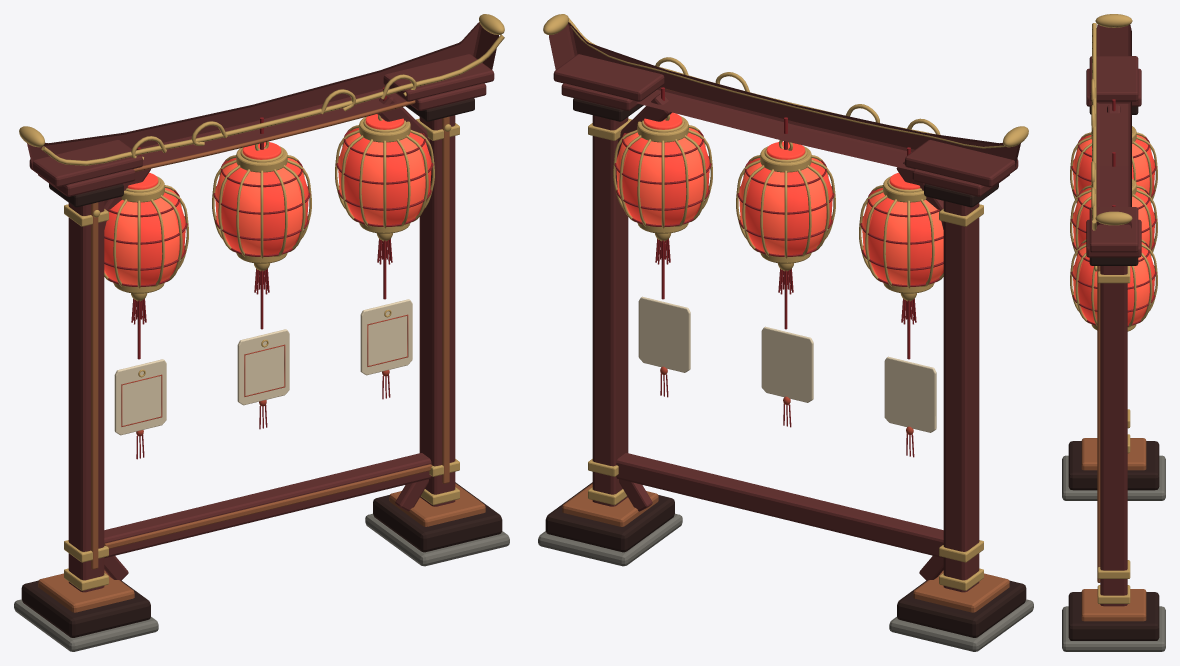
File: riddle_rack.glb
The picture shows the model from 3 angles, left to right: view 1: azimuth 30°, elevation 25°; view 2: azimuth 150°, elevation 25°; view 3: azimuth 270°, elevation 25°; orthographic projection. The views are drawn at different scales.
Visible parts, largest first — view 1: riddle_rack; view 2: riddle_rack; view 3: riddle_rack.
Boxes of the visible parts, x1,y1,x2,y2 form: riddle_rack: (14,14,509,651); riddle_rack: (538,14,1033,651); riddle_rack: (1062,14,1165,651).
Size of the model in its own units: 2.98 by 3.03 by 0.64.
3 materials, 3 textured.
